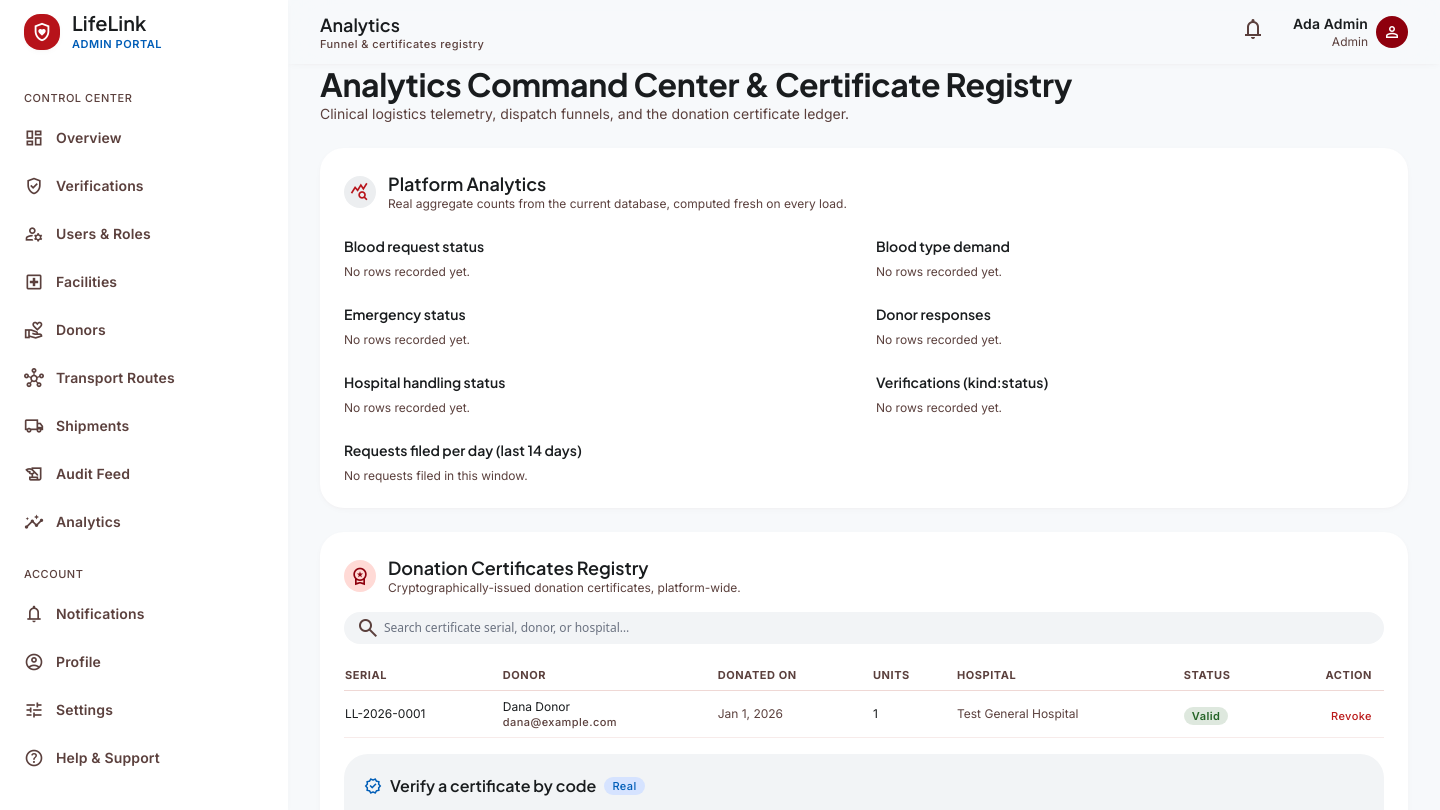
Test case: AdminAnalytics certificate registry › enables the confirm action once a valid (>=3 char) reason is entered
Click the button "Revoke" at (1352, 716), box [1331, 709, 1372, 723]
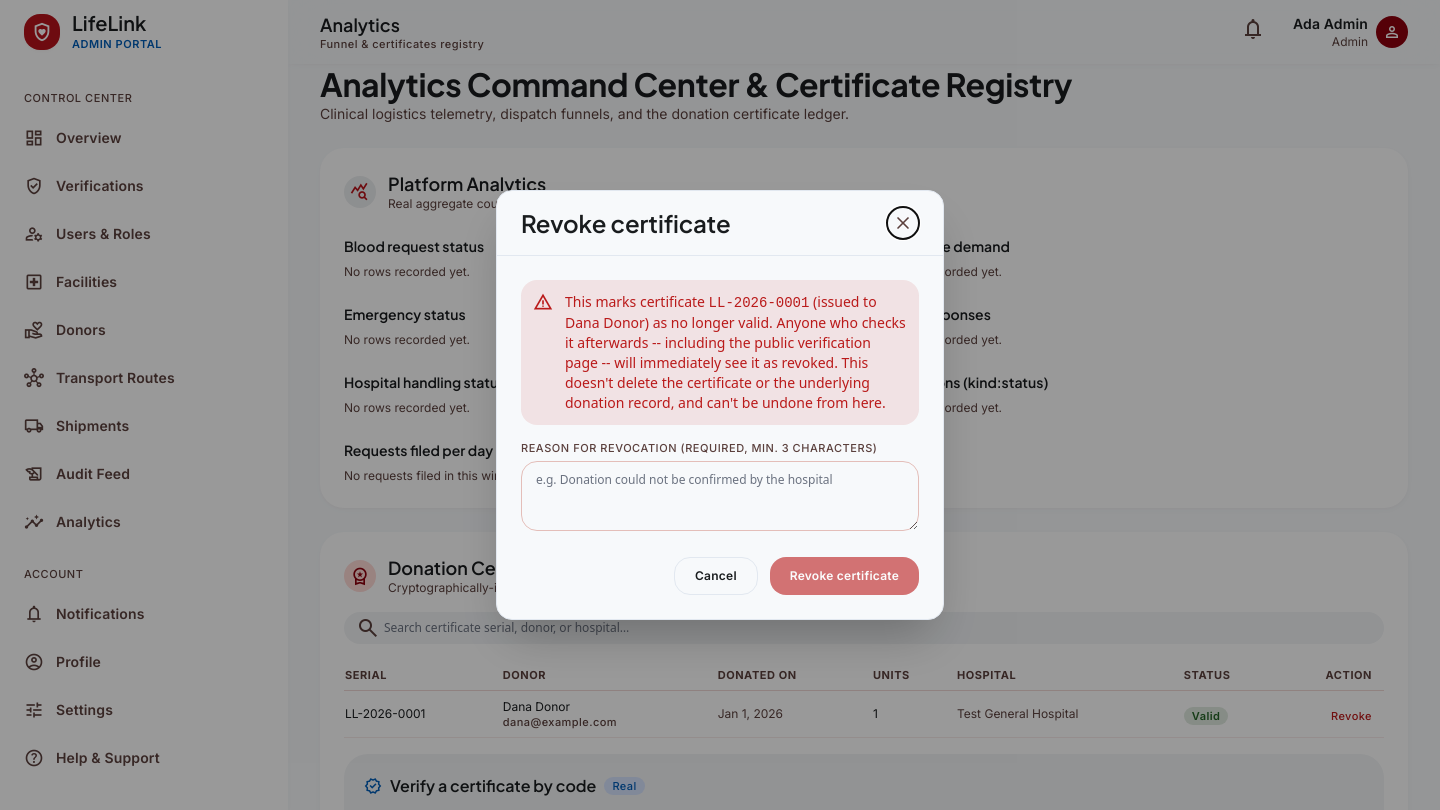
expect the heading "Revoke certificate" is shown: met, box [521, 207, 730, 239]
Type "Donation could not be confirmed." into the text box labelled "Reason for revocation (required, min. 3 characters)" at (720, 496), box [521, 461, 919, 531]
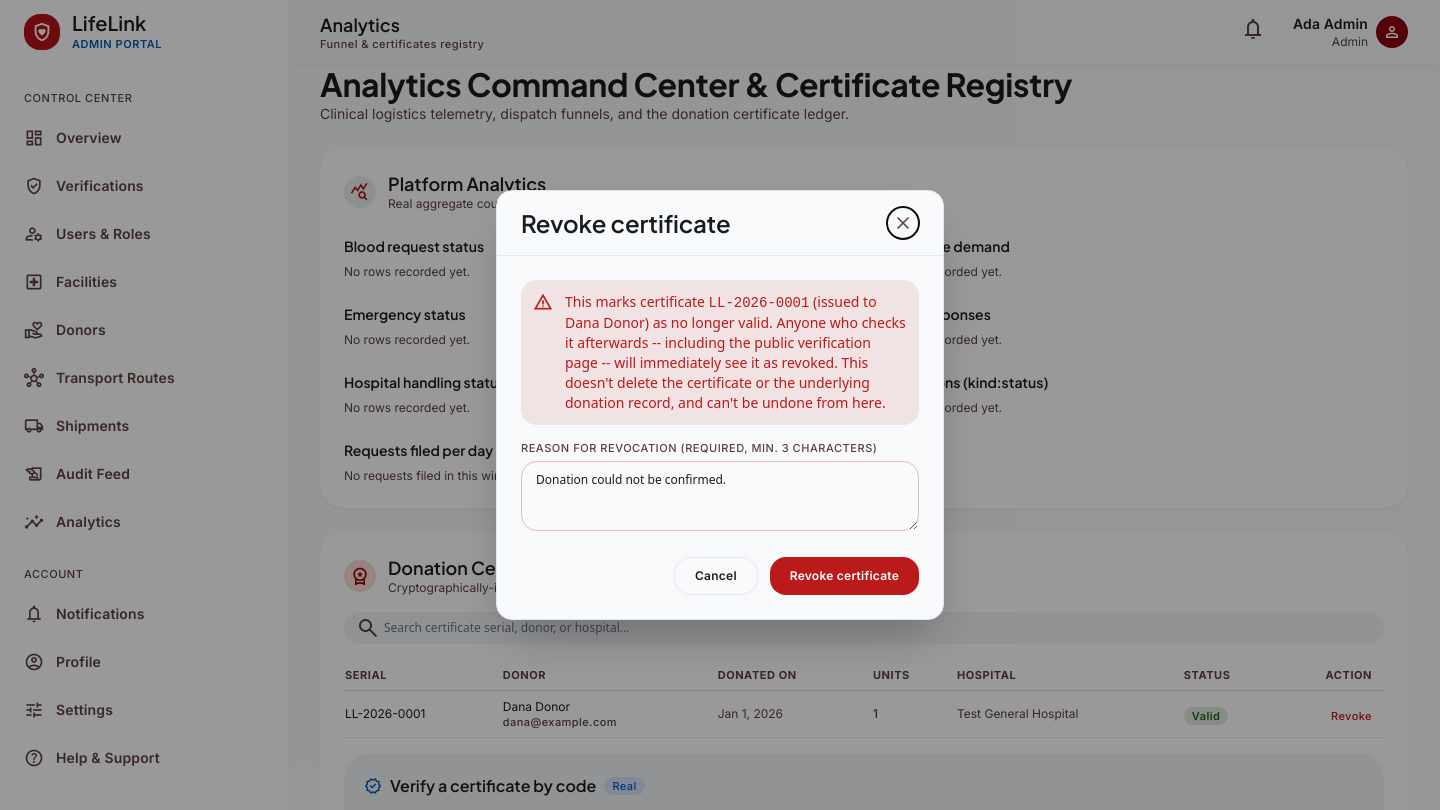
expect the button "Revoke certificate" is enabled: met, box [770, 557, 919, 595]
